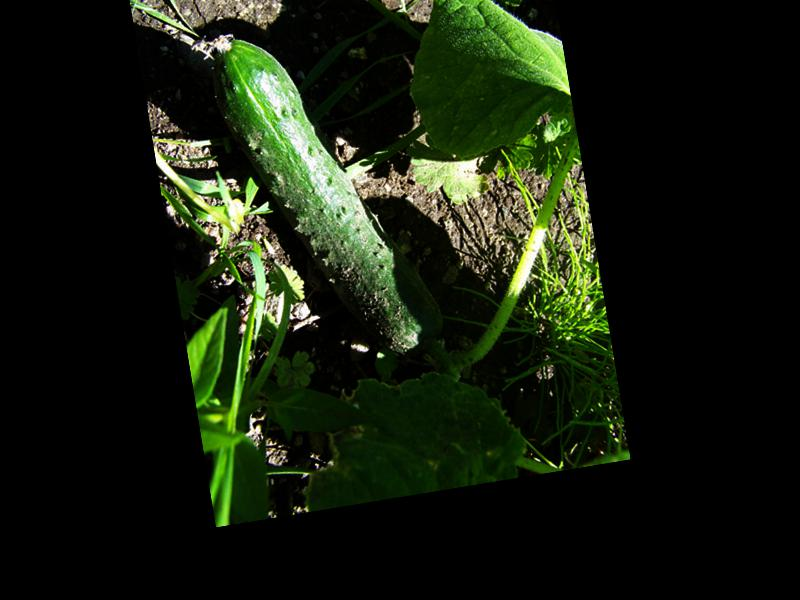Cucumber: (204, 8, 449, 382)
